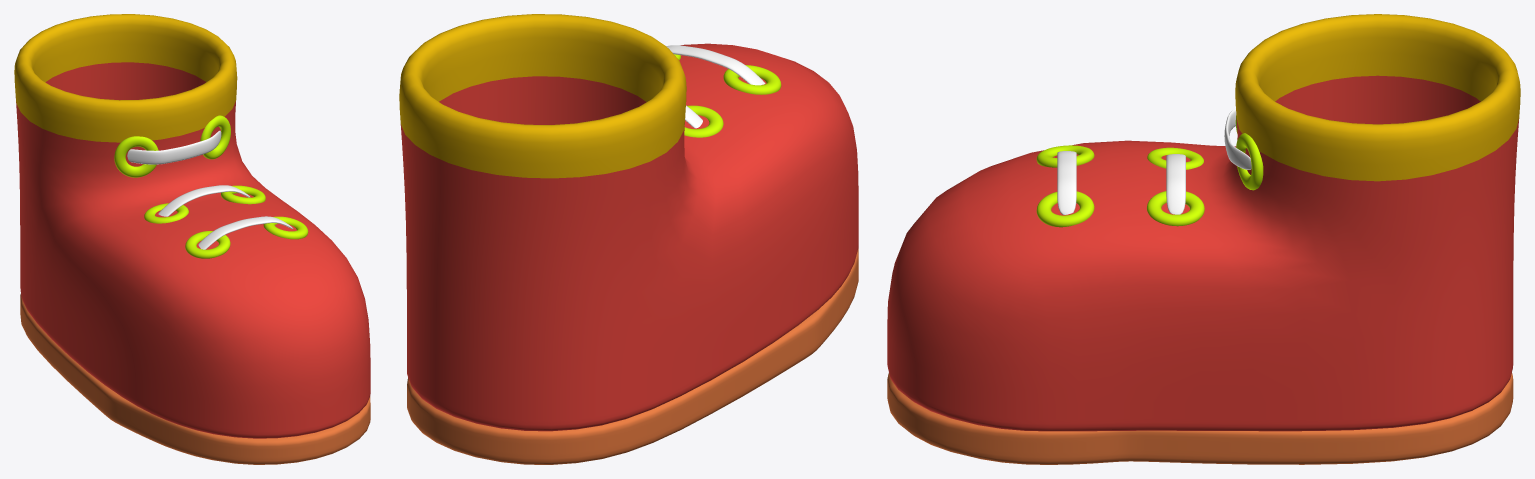
The model's file is shoesboots.glb.
3 renders of one model, left to right at view 1: azimuth 30°, elevation 25°; view 2: azimuth 150°, elevation 25°; view 3: azimuth 270°, elevation 25°, orthographic. The views are drawn at different scales.
Parts seen in each view (by area): view 1: Cylinder_0, Cylinder.001_1, Cylinder.003_2, Plane.002_5, Plane_3, Plane.001_4; view 2: Cylinder_0, Cylinder.001_1, Cylinder.003_2, Plane_3; view 3: Cylinder_0, Cylinder.001_1, Cylinder.003_2, Plane_3, Plane.001_4, Plane.002_5.
Boxes of the visible parts, bbox=[...] form: Cylinder_0: bbox=[14, 14, 370, 438]; Cylinder.001_1: bbox=[20, 294, 370, 464]; Cylinder.003_2: bbox=[114, 115, 308, 258]; Plane.002_5: bbox=[127, 130, 221, 164]; Plane_3: bbox=[198, 216, 293, 249]; Plane.001_4: bbox=[158, 185, 250, 216]; Cylinder_0: bbox=[399, 14, 858, 431]; Cylinder.001_1: bbox=[407, 248, 858, 464]; Cylinder.003_2: bbox=[674, 54, 781, 137]; Plane_3: bbox=[666, 45, 765, 85]; Cylinder_0: bbox=[887, 14, 1520, 431]; Cylinder.001_1: bbox=[887, 373, 1513, 464]; Cylinder.003_2: bbox=[1036, 115, 1263, 227]; Plane_3: bbox=[1057, 151, 1076, 214]; Plane.001_4: bbox=[1166, 154, 1185, 214]; Plane.002_5: bbox=[1224, 108, 1251, 169].
Size of the model in its own units: 2.07 by 2.5 by 4.22.
